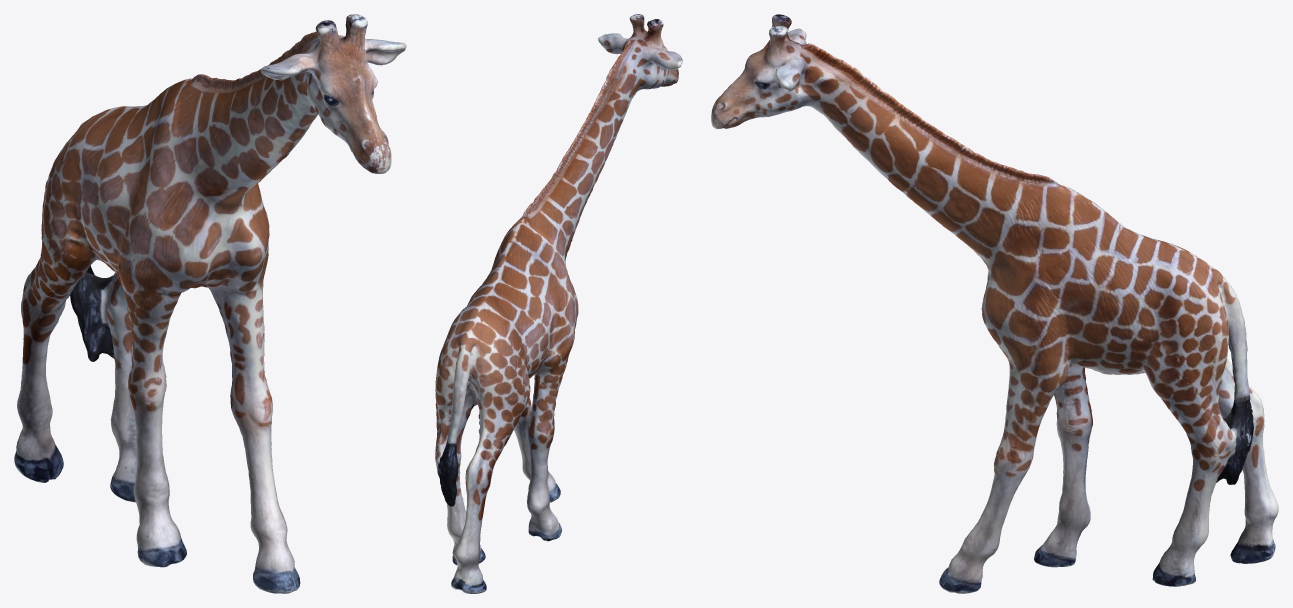
3 views of the same model, side by side, from view 1: azimuth 30°, elevation 25°; view 2: azimuth 150°, elevation 25°; view 3: azimuth 270°, elevation 25° (orthographic). The views are drawn at different scales.
Parts seen in each view (by area): view 1: Object_6; view 2: Object_6; view 3: Object_6.
Boxes of the visible parts, box(x1,y1,x2,y2) form: Object_6: box(14, 14, 406, 593); Object_6: box(435, 14, 682, 593); Object_6: box(711, 14, 1278, 593).
Size of the model in its own units: 0.2806 by 1.25 by 1.17.
Materials: 1 (1 with a texture image).
